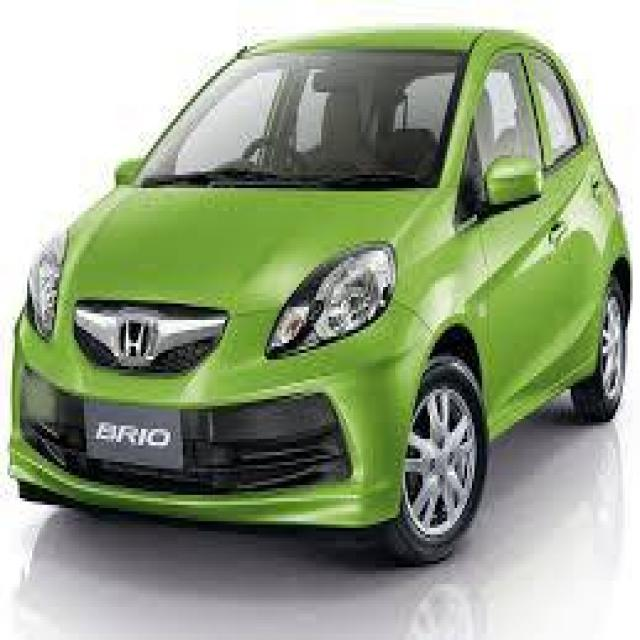back_left_door: (525, 45, 600, 370)
front_bumper: (6, 297, 437, 528)
front_glass: (127, 50, 469, 190)
front_left_door: (467, 43, 571, 421)
front_left_light: (264, 240, 399, 362)
front_right_light: (27, 228, 69, 339)
hood: (61, 185, 435, 314)
left_mirror: (474, 155, 542, 226)
right_mirror: (114, 156, 144, 186)
wheel: (376, 355, 489, 563), (570, 275, 625, 420)
